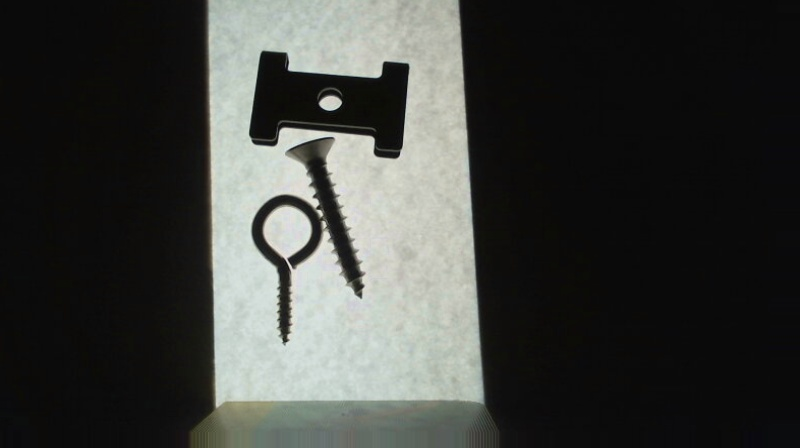O001: (244, 190, 326, 348)
O002: (244, 48, 412, 162)
S001: (281, 134, 365, 303)
